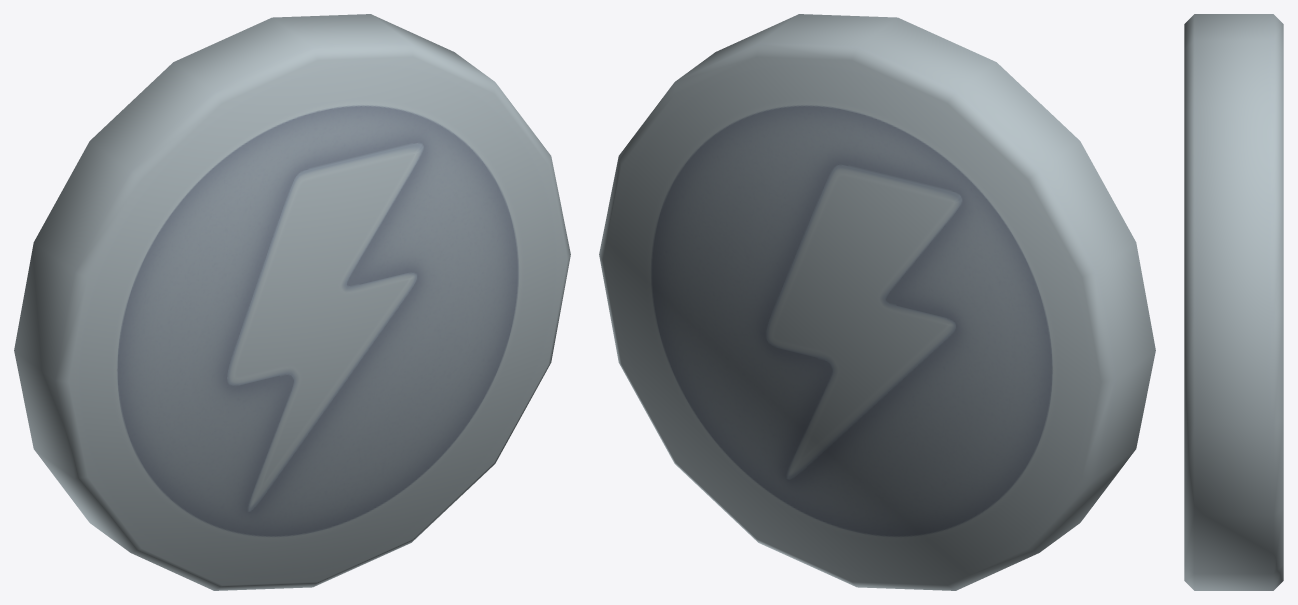
Rendered from Coin_Thunder_Silver.FBX.
3 views of the same model, side by side, from view 1: azimuth 30°, elevation 25°; view 2: azimuth 150°, elevation 25°; view 3: azimuth 270°, elevation 25° (orthographic). The views are drawn at different scales.
Visible parts, largest first — view 1: Coin_Thunder_Silver; view 2: Coin_Thunder_Silver; view 3: Coin_Thunder_Silver.
Boxes of the visible parts, x1,y1,x2,y2 form: Coin_Thunder_Silver: (14,14,570,590); Coin_Thunder_Silver: (599,14,1155,590); Coin_Thunder_Silver: (1184,14,1283,590).
Size of the model in its own units: 70 by 70 by 12.
1 material, 1 textured.
